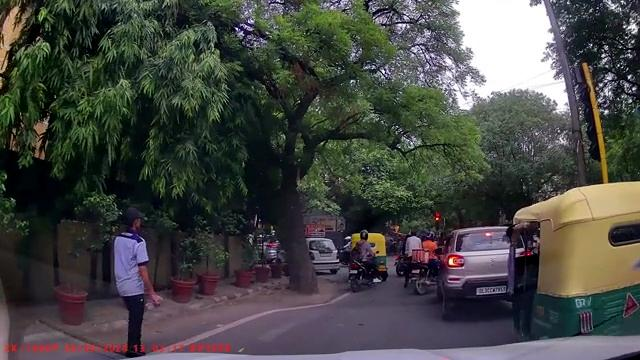motorcycle_with_helmet: (347, 229, 383, 293)
